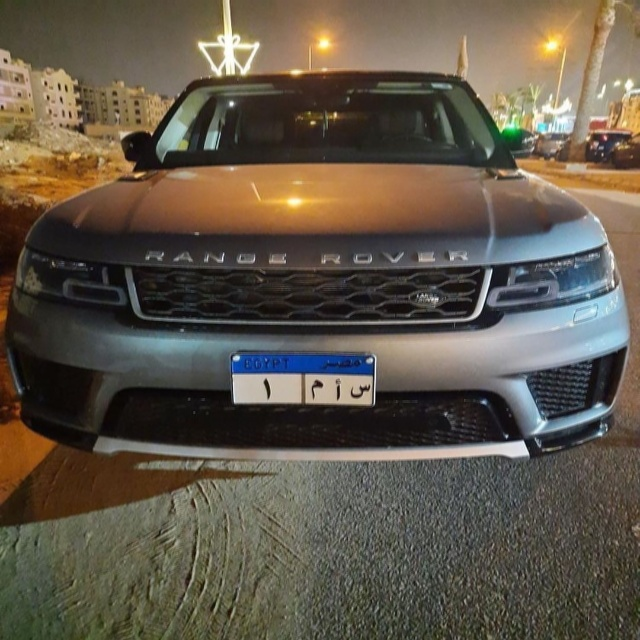License Plate: (231, 350, 376, 408)
